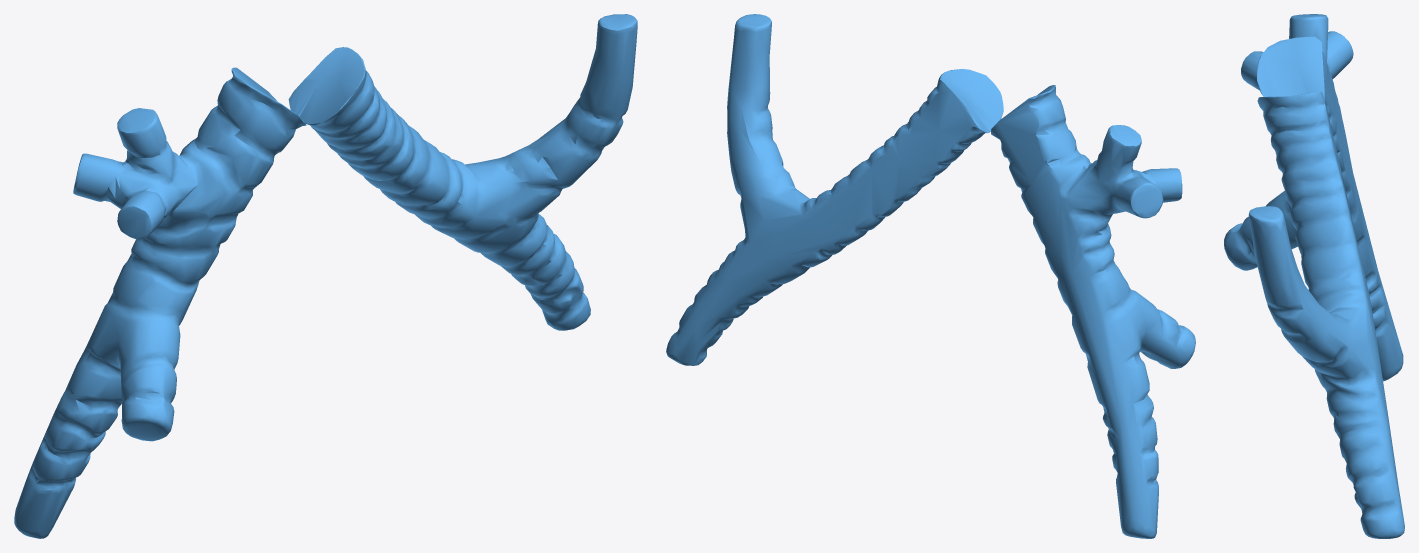
Rendered from bronkus.glb.
3 renders of one model, left to right at view 1: azimuth 30°, elevation 25°; view 2: azimuth 150°, elevation 25°; view 3: azimuth 270°, elevation 25°, orthographic. The views are drawn at different scales.
Parts seen in each view (by area): view 1: bronchus; view 2: bronchus; view 3: bronchus.
Boxes of the visible parts, box(x1,y1,x2,y2) form: bronchus: box(14, 14, 637, 538); bronchus: box(666, 14, 1195, 538); bronchus: box(1224, 14, 1404, 538).
Bounding box in the file's own units: 0.1228 × 0.094 × 0.0375.
